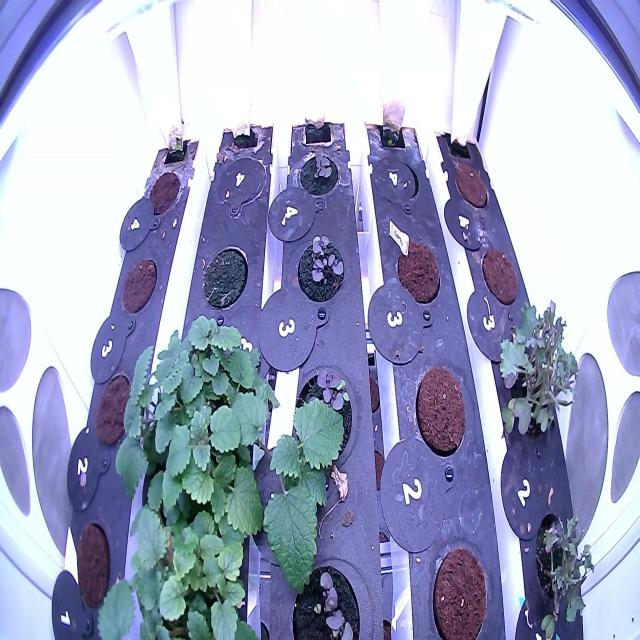empty_pod: (368, 151, 424, 218), (214, 152, 268, 219)
germination: (290, 353, 360, 471), (284, 554, 366, 638), (292, 230, 348, 307), (297, 143, 343, 202)
pod: (427, 537, 492, 637), (408, 360, 469, 462), (70, 516, 116, 616), (92, 364, 138, 453), (393, 234, 444, 312), (116, 253, 160, 321), (479, 242, 520, 309), (144, 165, 182, 221), (452, 158, 490, 214)
